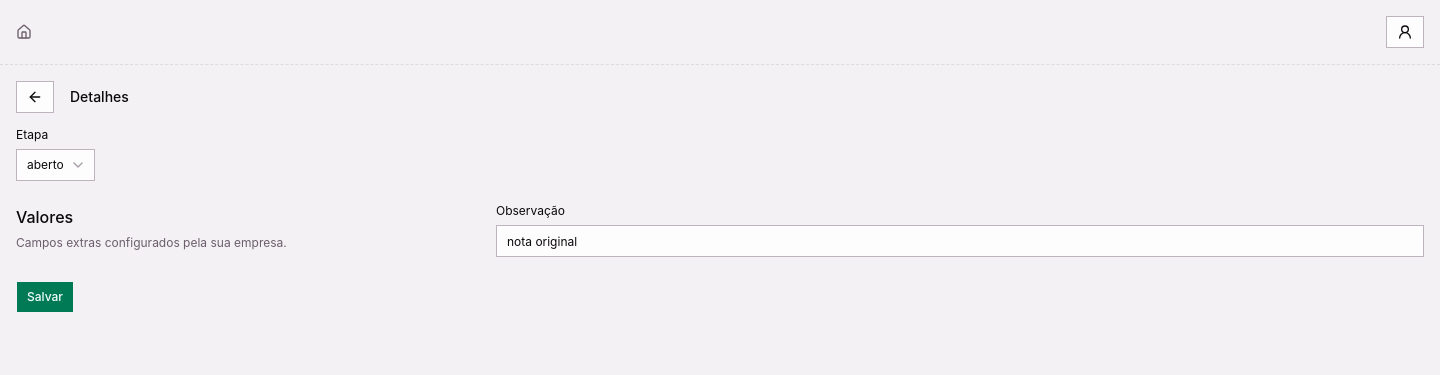
Test case: ProcessDetailsPage — values (T26, WEB-08) › WEB-08 AC2: a 400 response keeps the form filled with the user’s edits and shows the message
Step 1. Replace the text in the field labelled "Observação" with "edição do usuário" → (960, 241), box x1=496 y1=225 x2=1424 y2=257
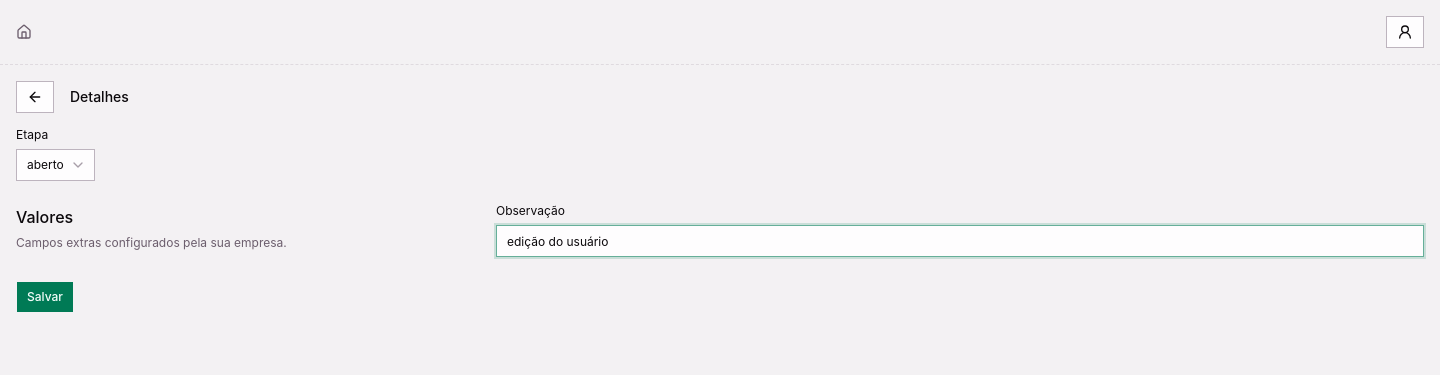
Step 2. Click the button "Salvar" → (45, 297), box x1=16 y1=281 x2=74 y2=313
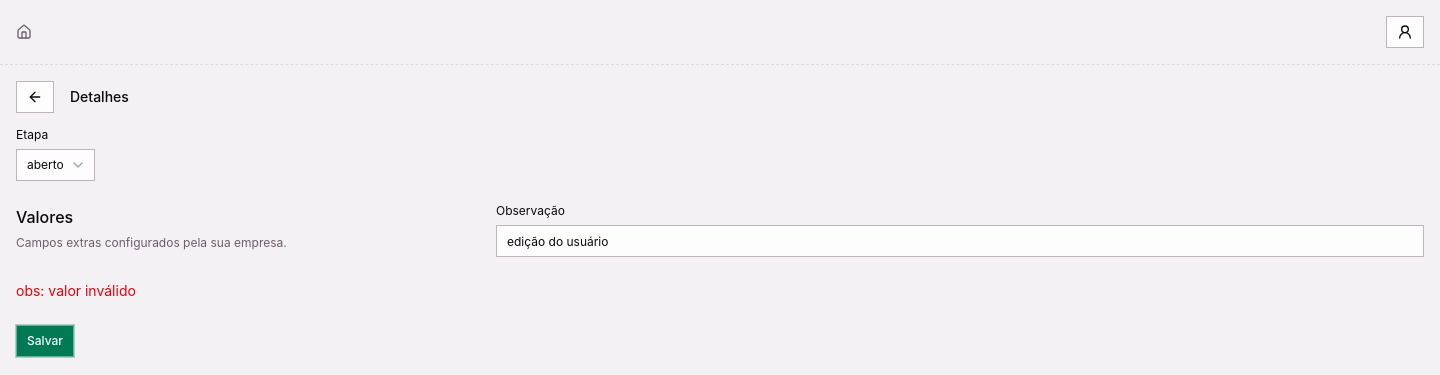
Result: the message reads "obs: valor inválido" at x1=16 y1=282 x2=136 y2=299
